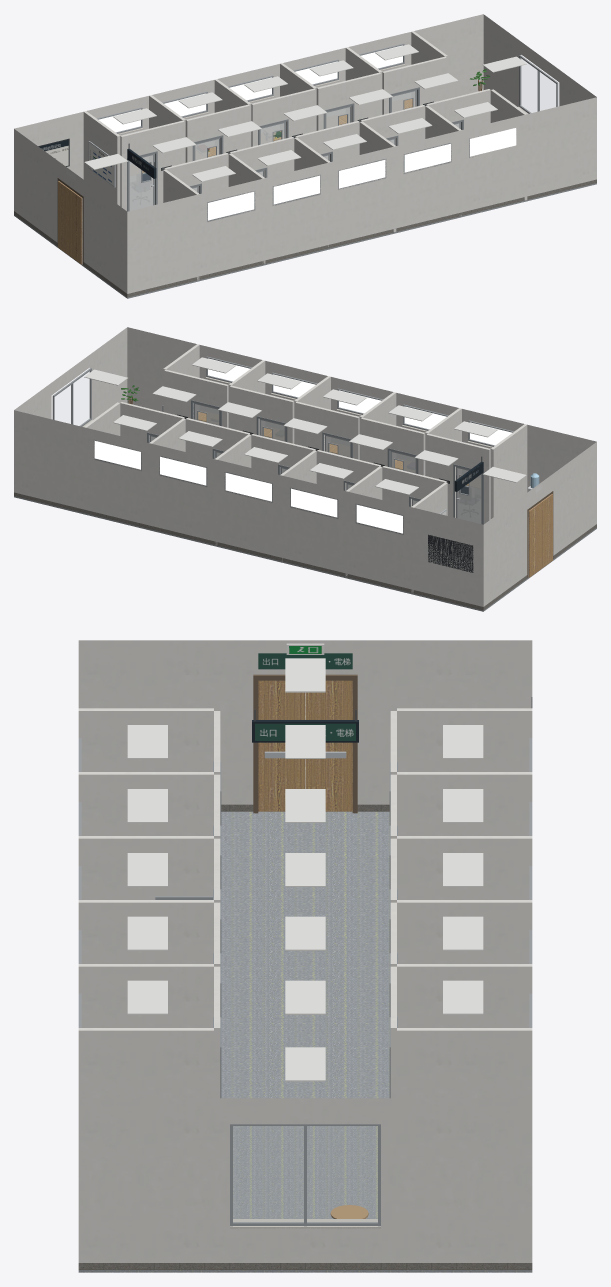
File: library_carrels.glb
3 views of the same model, one above another, from view 1: azimuth 30°, elevation 25°; view 2: azimuth 150°, elevation 25°; view 3: azimuth 270°, elevation 25° (orthographic). The views are drawn at different scales.
Parts seen in each view (by area): view 1: WALL_S_wall, WALL_PN_wall, WALL_N_wall, WALL_W_wall, WALL_C_lamp, WALL_PS_wall, CARREL_SKY, CARREL_PS_side, CARREL_PN_side, WALL_E_wall, WALL_PN_frost, WALL_S_wain (+11 smaller); view 2: WALL_N_wall, WALL_PS_wall, WALL_S_wall, WALL_W_wall, WALL_C_lamp, WALL_PN_wall, CARREL_SKY, CARREL_PS_side, CARREL_PN_side, WALL_E_wall, WALL_N_trim, WALL_N_wain (+9 smaller); view 3: WALL_E_wall, library_carrels_floorm, CARREL_PN_side, CARREL_PS_side, WALL_W_wall, WALL_C_lamp, WALL_E_glass, WALL_W_door, WALL_E_wain, WALL_PN_wall, WALL_PS_wall, WALL_E_frame (+4 smaller).
Part boxes in pixels (x1,y1,x2,y2): WALL_S_wall: (127, 97, 596, 293); WALL_PN_wall: (120, 56, 446, 210); WALL_N_wall: (14, 14, 483, 179); WALL_W_wall: (14, 129, 127, 293); WALL_C_lamp: (84, 44, 526, 181); WALL_PS_wall: (164, 89, 490, 193); CARREL_SKY: (98, 45, 516, 220); CARREL_PS_side: (163, 89, 527, 280); CARREL_PN_side: (83, 31, 447, 205); WALL_E_wall: (483, 14, 596, 106); WALL_PN_frost: (129, 91, 415, 210); WALL_S_wain: (127, 179, 596, 297); WALL_N_wall: (14, 410, 483, 606); WALL_PS_wall: (164, 369, 490, 523); WALL_S_wall: (127, 327, 596, 492); WALL_W_wall: (483, 442, 596, 606); WALL_C_lamp: (84, 357, 526, 494); WALL_PN_wall: (120, 402, 446, 506); CARREL_SKY: (94, 358, 512, 533); CARREL_PS_side: (163, 344, 527, 518); CARREL_PN_side: (84, 402, 447, 593); WALL_E_wall: (14, 327, 127, 419); WALL_N_trim: (93, 439, 473, 572); WALL_N_wain: (14, 492, 483, 610); WALL_E_wall: (78, 1098, 532, 1262); library_carrels_floorm: (78, 811, 532, 1272); CARREL_PN_side: (397, 708, 532, 1098); CARREL_PS_side: (78, 708, 213, 1098); WALL_W_wall: (78, 640, 532, 804); WALL_C_lamp: (127, 658, 483, 1081); WALL_E_glass: (233, 1126, 377, 1221); WALL_W_door: (258, 680, 352, 811); WALL_E_wain: (78, 1263, 532, 1269); WALL_PN_wall: (390, 711, 396, 1098); WALL_PS_wall: (214, 711, 220, 1098); WALL_E_frame: (230, 1124, 380, 1228).
Bounding box in the file's own units: 17.24 × 3.05 × 7.2.
Materials: 16 (8 with a texture image).
